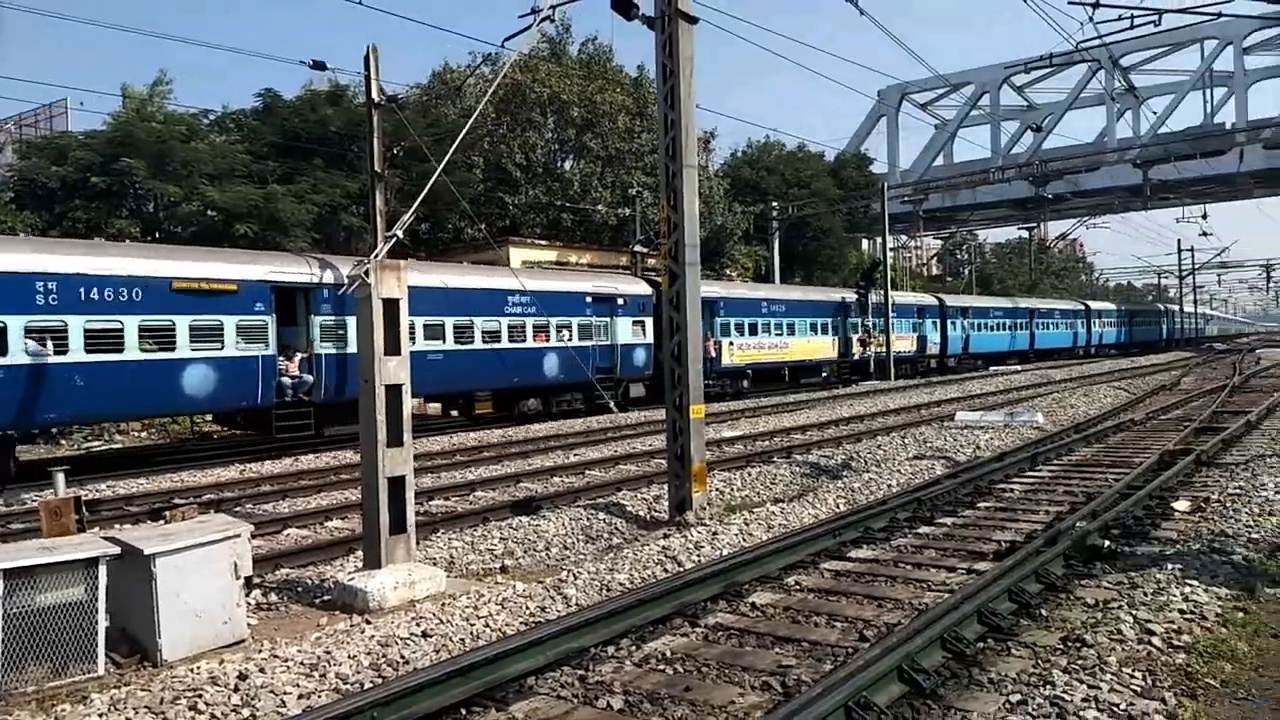Boogie: (71, 280, 157, 318)
Car Type: (499, 282, 545, 323)
